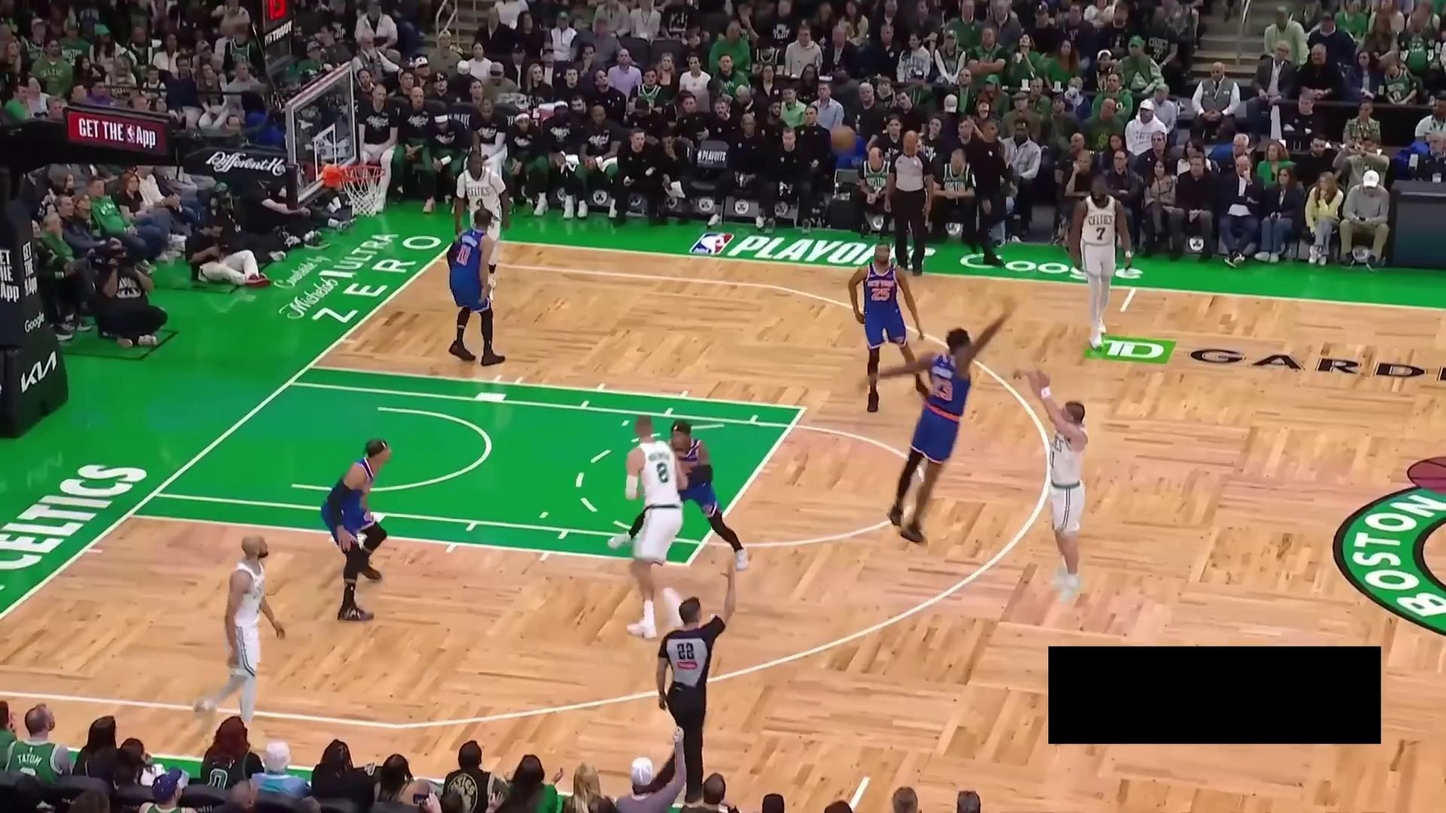ball: (830, 125, 856, 152)
number: (927, 371, 954, 403), (870, 284, 892, 303), (457, 241, 473, 264), (656, 460, 670, 484), (1095, 225, 1106, 241), (475, 195, 486, 210)
player: (188, 529, 289, 754), (607, 418, 752, 572), (839, 234, 934, 412), (623, 414, 689, 640), (318, 437, 393, 623), (1064, 176, 1135, 349), (448, 207, 508, 367), (451, 145, 512, 299)
player-jump-shot: (1014, 368, 1089, 603)
player-shot-block: (858, 294, 1019, 543)
referee: (653, 558, 750, 799), (881, 129, 938, 274)
rim: (338, 163, 389, 183)
